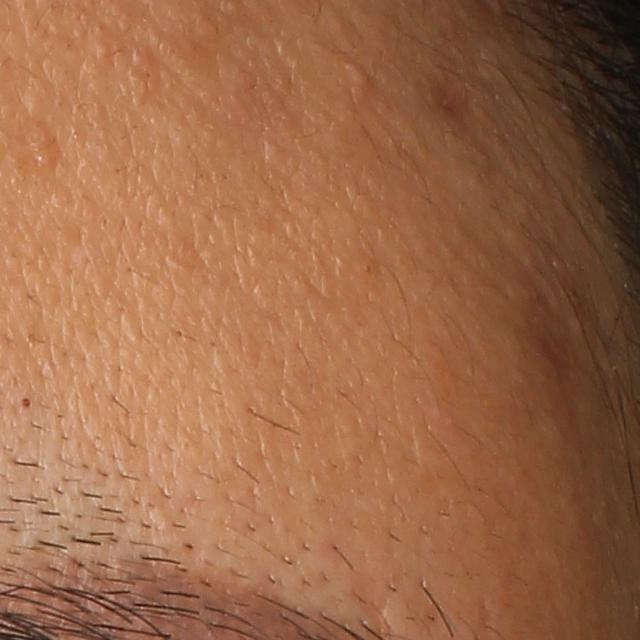comedo: (344, 56, 374, 89), (90, 38, 110, 62), (17, 392, 36, 413)
